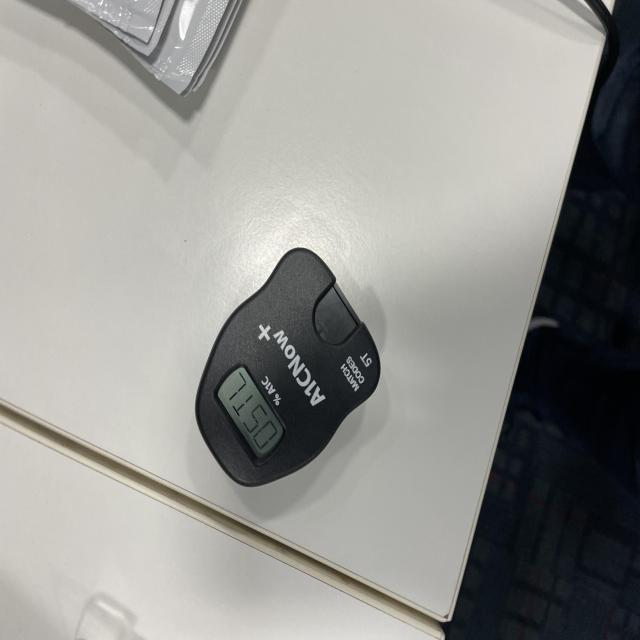hba1c: (193, 248, 382, 492)
